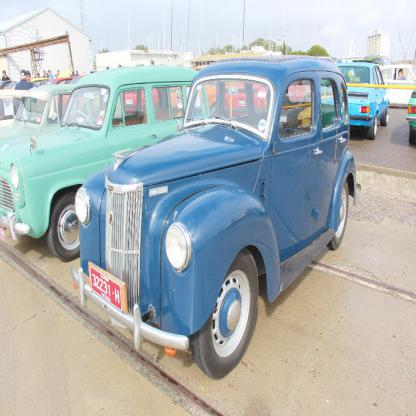Car: (0, 60, 416, 379)
